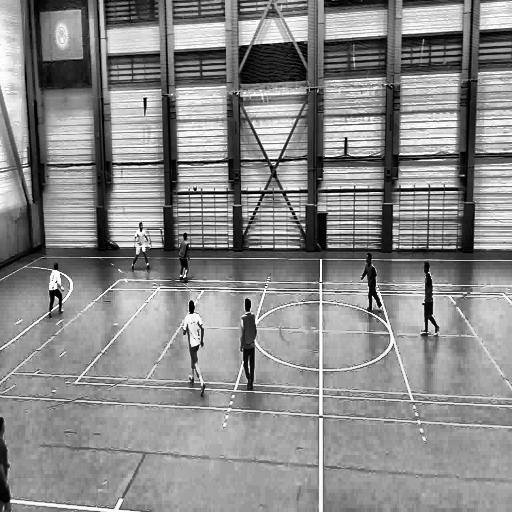ball: (192, 182, 199, 192)
player: (182, 300, 207, 399), (239, 298, 257, 394), (418, 262, 440, 340), (360, 254, 383, 316), (132, 221, 153, 274), (48, 260, 66, 320), (178, 230, 192, 286)
